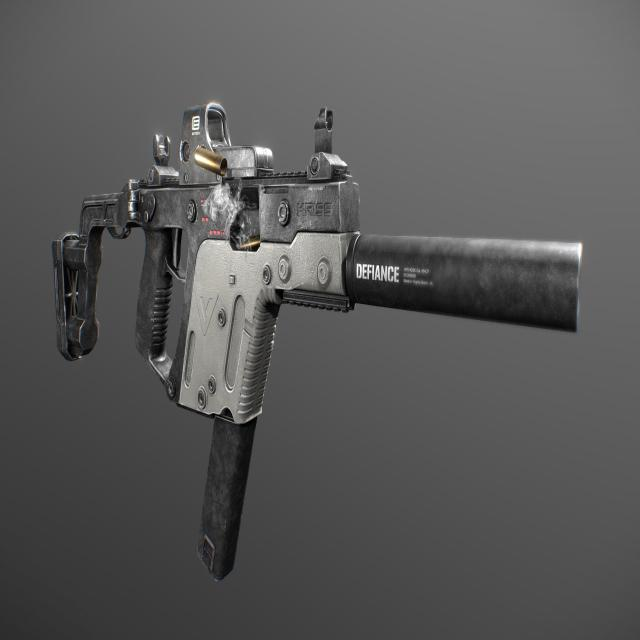SMG: (50, 103, 584, 584)
